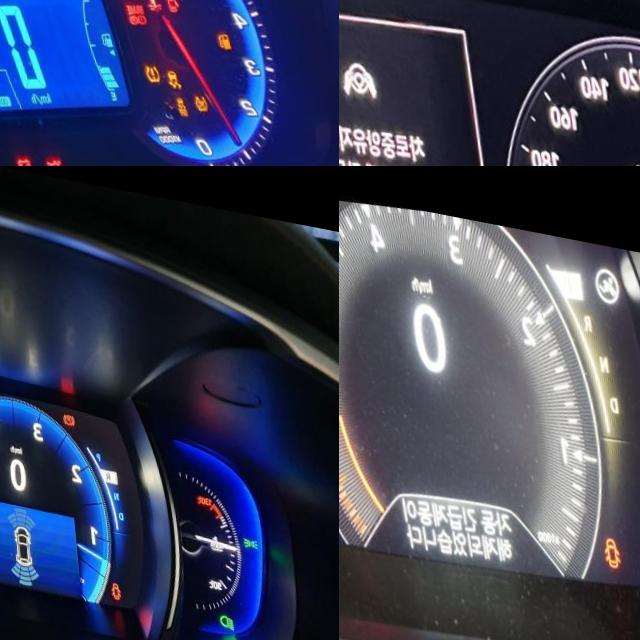Doors: (597, 516, 617, 550), (103, 567, 114, 585)
Low beam: (211, 593, 227, 612)
Low fuel level: (212, 12, 227, 32)
SideLamp: (236, 516, 252, 530)
